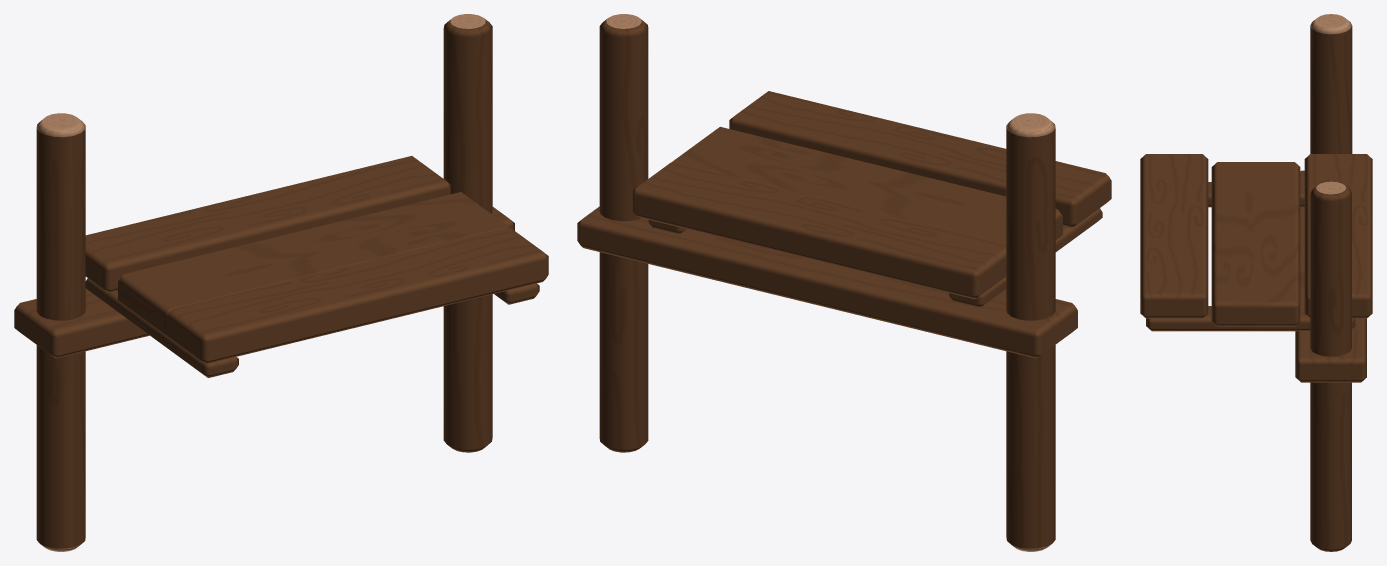
Rendered from M_Small_Cap.fbx.
3 views of the same model, side by side, from view 1: azimuth 30°, elevation 25°; view 2: azimuth 150°, elevation 25°; view 3: azimuth 270°, elevation 25° (orthographic). The views are drawn at different scales.
Parts seen in each view (by area): view 1: M_Small_Cap; view 2: M_Small_Cap; view 3: M_Small_Cap.
Part boxes in pixels (<box>): M_Small_Cap: <box>14,14,548,551</box>; M_Small_Cap: <box>577,14,1111,551</box>; M_Small_Cap: <box>1140,14,1372,551</box>.
Bounding box in the file's own units: 400 × 348 × 205.
